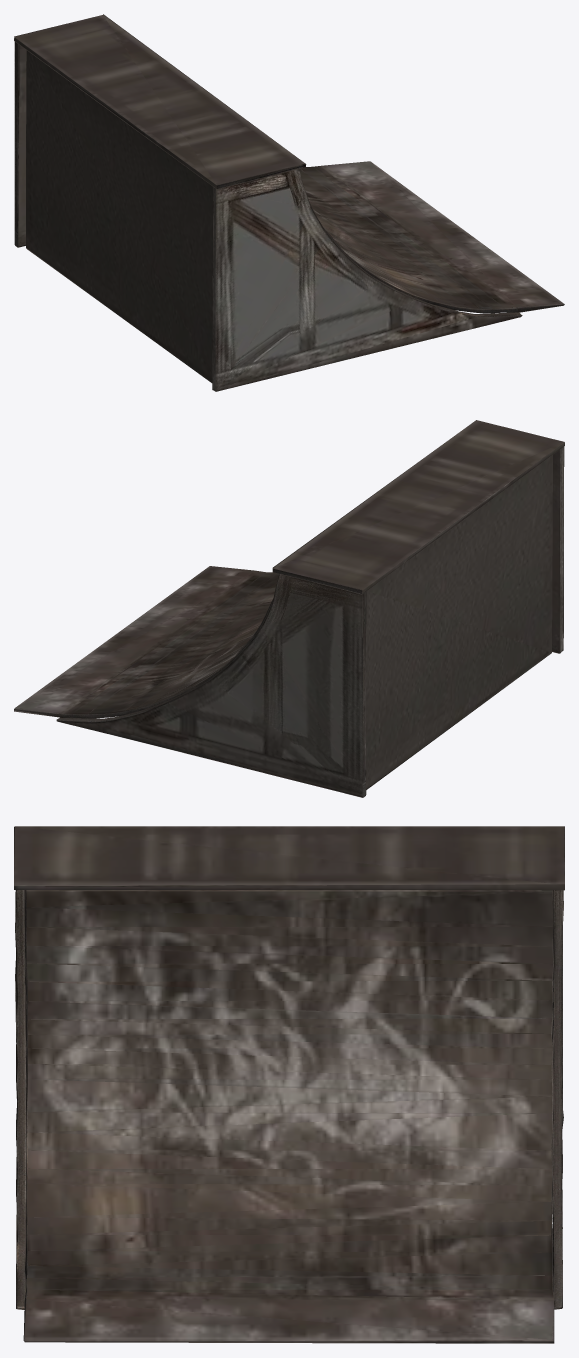
File: ramp.glb
3 views of the same model, one above another, from view 1: azimuth 30°, elevation 25°; view 2: azimuth 150°, elevation 25°; view 3: azimuth 270°, elevation 25° (orthographic). The views are drawn at different scales.
Parts seen in each view (by area): view 1: mesh_node; view 2: mesh_node; view 3: mesh_node.
Boxes of the visible parts, x1=… form: mesh_node: x1=14, y1=14, x2=564, y2=391; mesh_node: x1=14, y1=420, x2=564, y2=797; mesh_node: x1=14, y1=826, x2=564, y2=1343.
Size of the model in its own units: 1 by 0.5761 by 1.
Materials: 1 (1 with a texture image).
